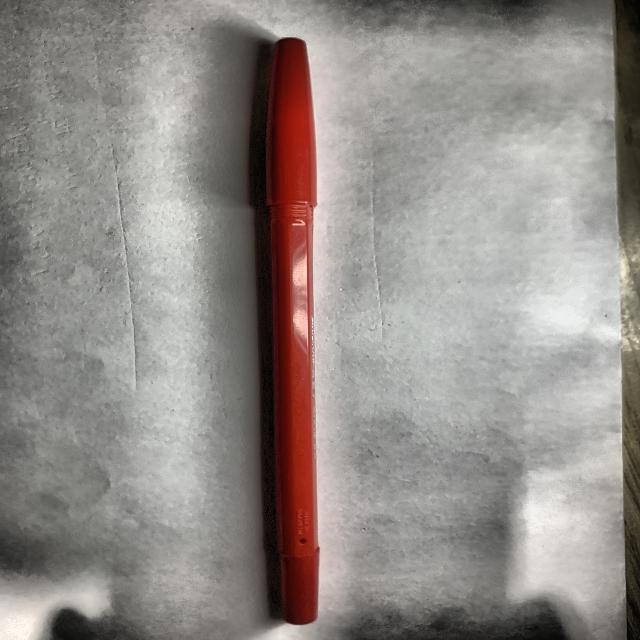Pulpen: (237, 32, 358, 636)
